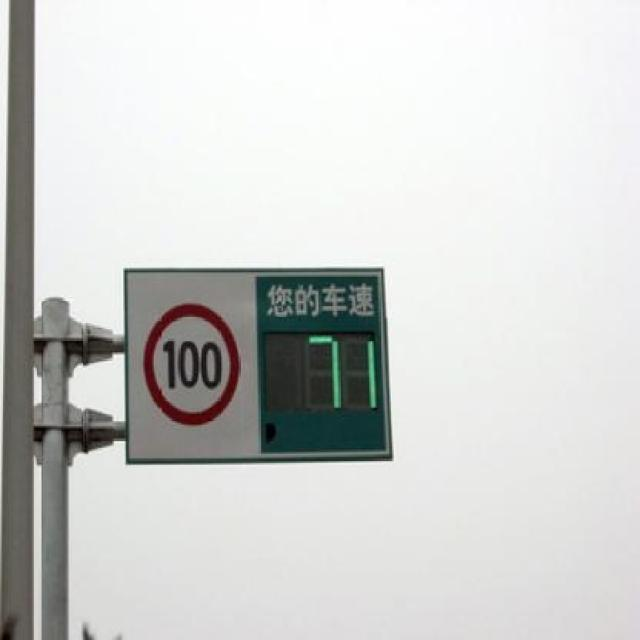forb_speed_over_100: (148, 304, 240, 425)
